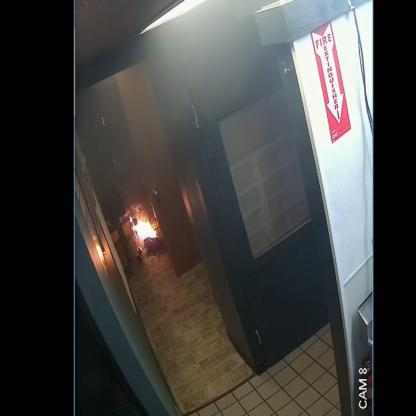fire: (132, 218, 157, 238)
